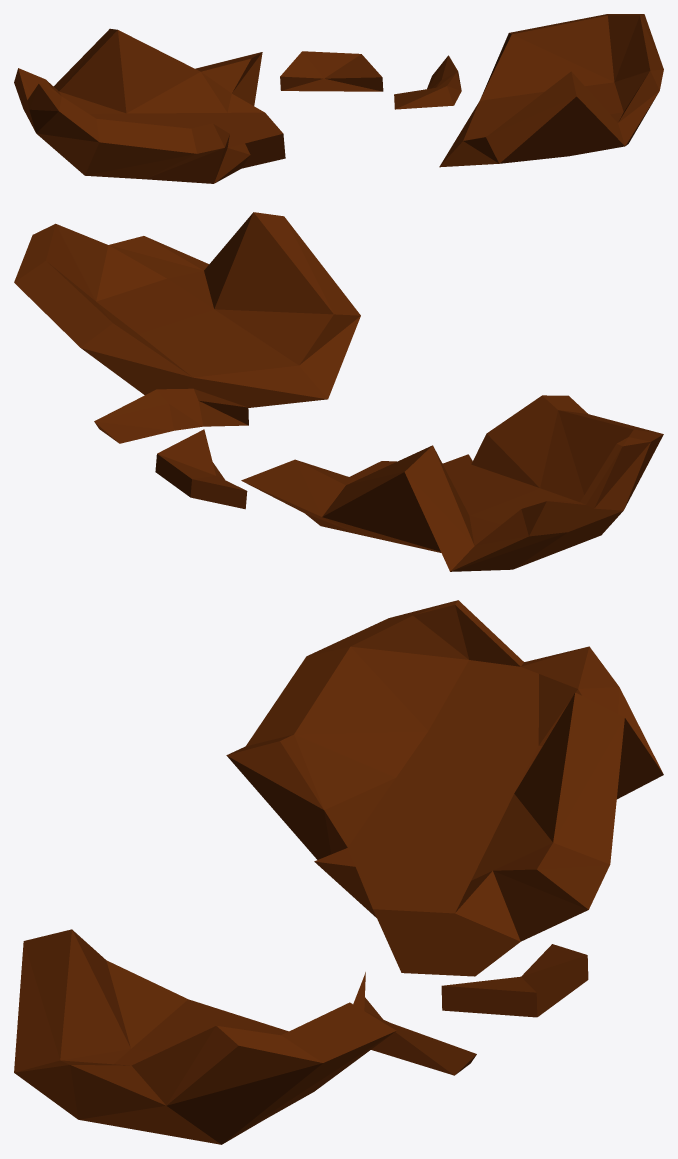
File: SM_SM_Pottery_06.fbx
The picture shows the model from 3 angles, top to bottom: view 1: azimuth 30°, elevation 25°; view 2: azimuth 150°, elevation 25°; view 3: azimuth 270°, elevation 25°; orthographic projection. The views are drawn at different scales.
Parts seen in each view (by area): view 1: SM_Pottery_06; view 2: SM_Pottery_06; view 3: SM_Pottery_06.
Boxes of the visible parts, left/top/right/bottom form: SM_Pottery_06: left=14, top=14, right=663, bottom=183; SM_Pottery_06: left=14, top=212, right=663, bottom=571; SM_Pottery_06: left=14, top=600, right=663, bottom=1144.
Size of the model in its own units: 119 by 24.89 by 76.56.
